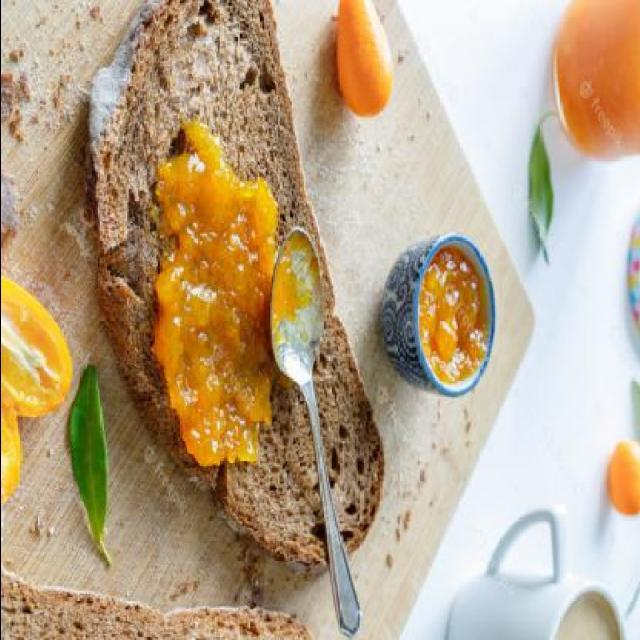Spread: (154, 128, 283, 476)
